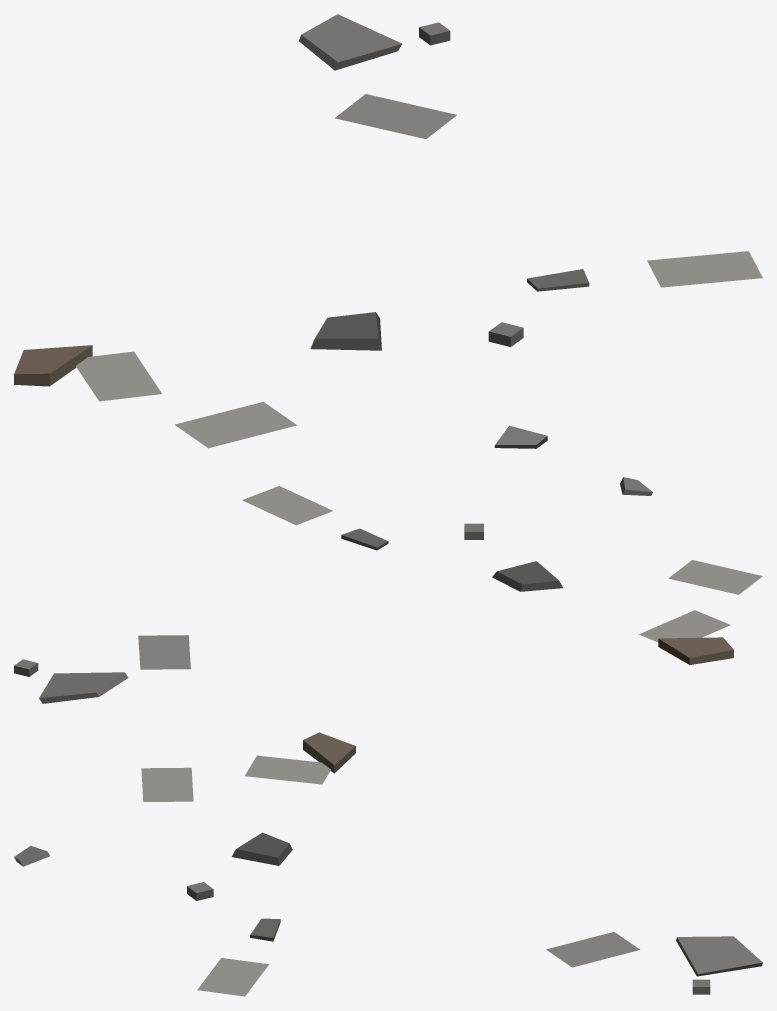
Rendered from AI_Env_GroundDirt_05.fbx.
3 views of the same model, one above another, from view 1: azimuth 30°, elevation 25°; view 2: azimuth 150°, elevation 25°; view 3: azimuth 270°, elevation 25° (orthographic). The views are drawn at different scales.
Visible parts, largest first — view 1: AI_Env_GroundDirt_05; view 2: AI_Env_GroundDirt_05; view 3: AI_Env_GroundDirt_05.
Part boxes in pixels (x1,y1,x2,y2): AI_Env_GroundDirt_05: [14, 14, 762, 448]; AI_Env_GroundDirt_05: [14, 477, 762, 703]; AI_Env_GroundDirt_05: [14, 732, 762, 996].
Bounding box in the file's own units: 4.12 × 0.0966 × 5.07.
